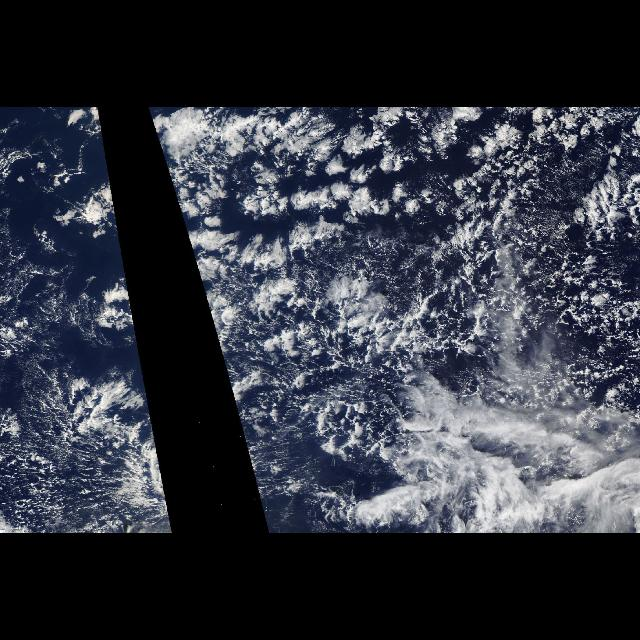Flower: (159, 111, 547, 356)
Gravel: (424, 150, 632, 408), (244, 366, 406, 528)
